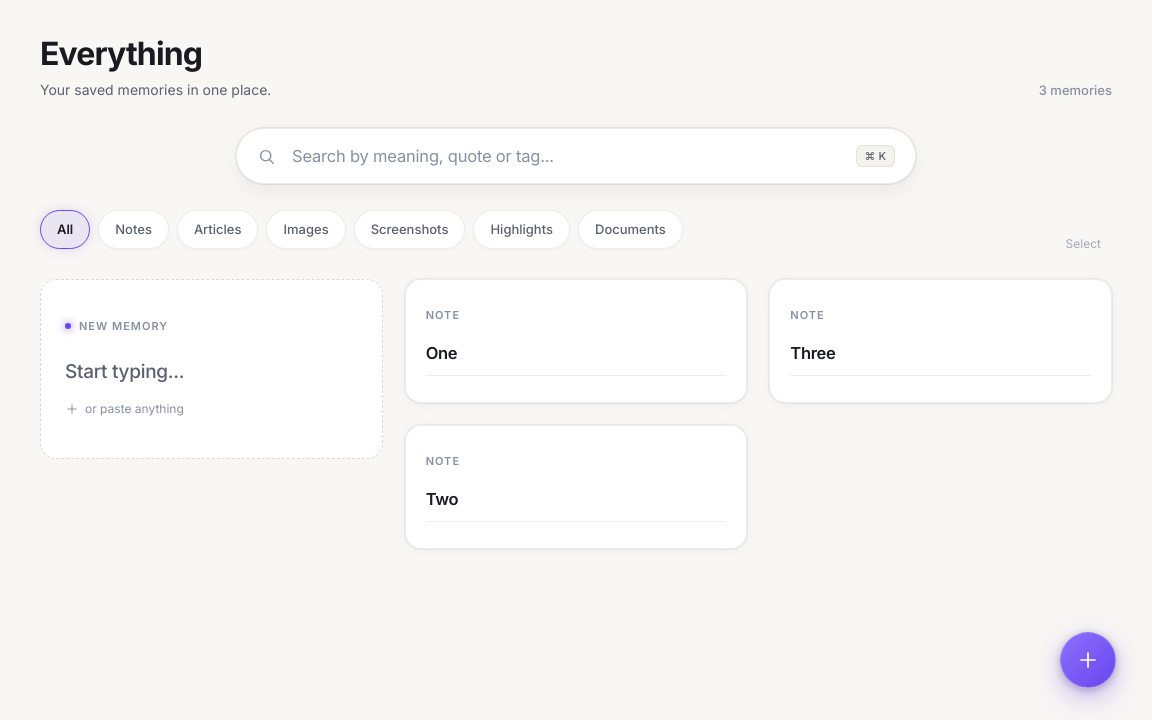
Test: multi-select › keeps the add action disabled with nothing selected
The width and height of the screenshot is (1152, 720).
Click the button with test id "enter-selection".
click(1083, 245)  # box left=1055, top=229, right=1112, bottom=260
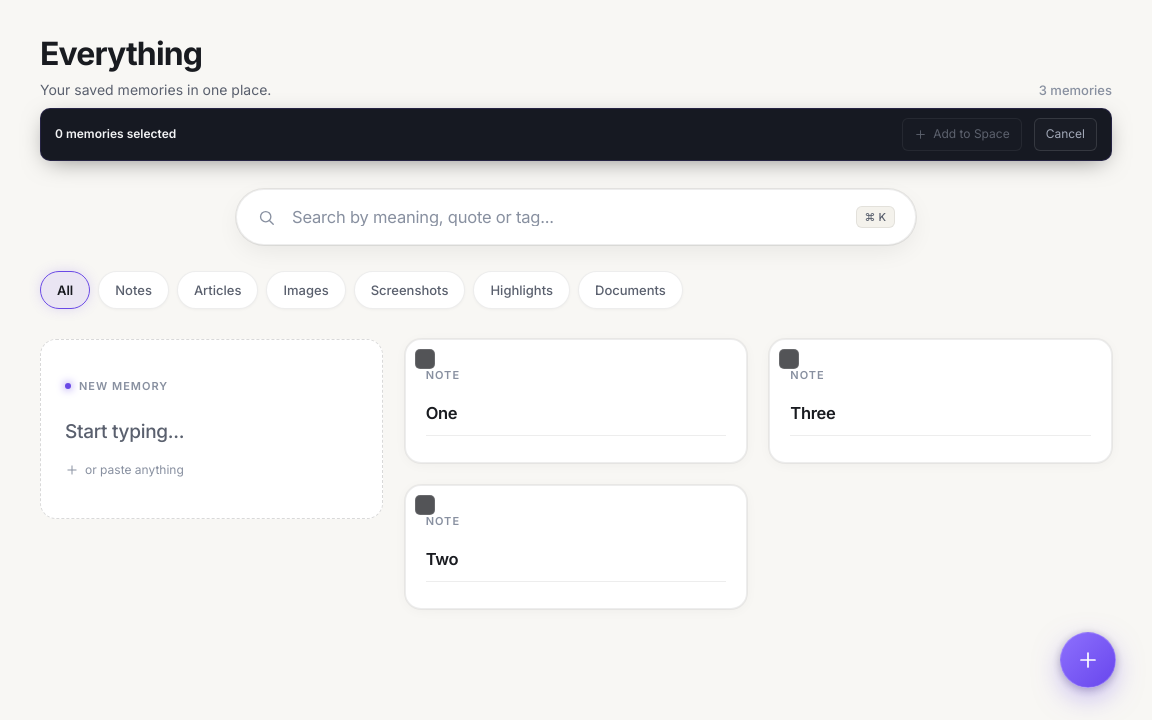
Now the button with test id "selection-add-to-space" is disabled, box left=902, top=118, right=1022, bottom=151
